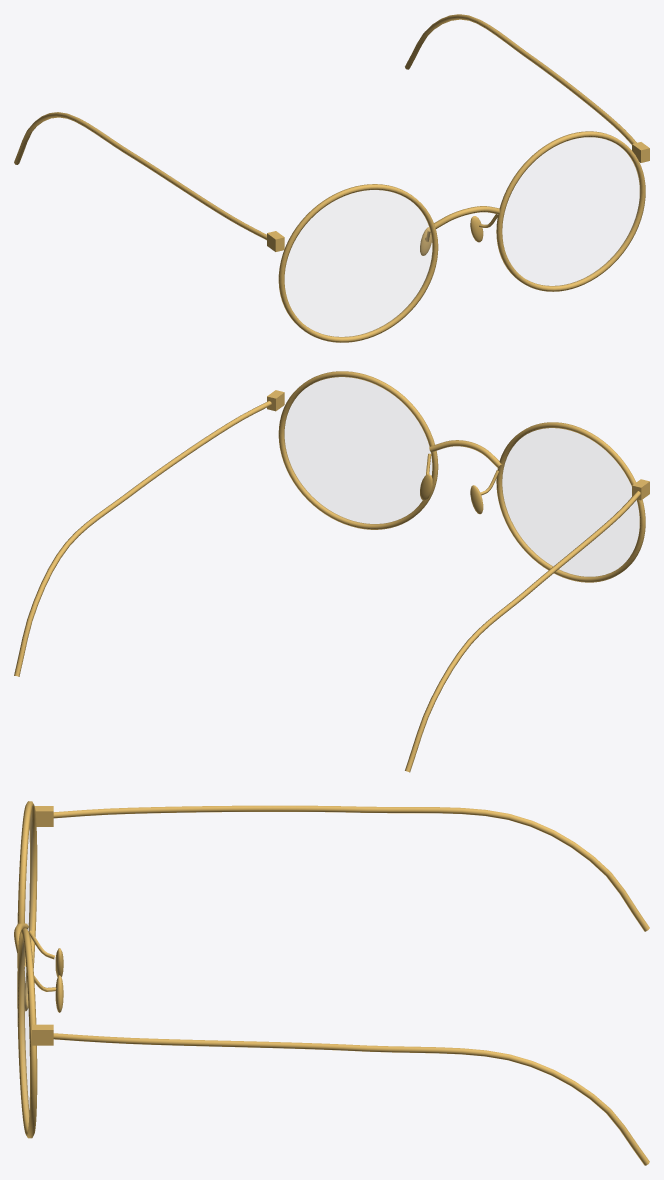
Rendered from BM-P01_Aurum_18K_gold.glb.
3 renders of one model, top to bottom at view 1: azimuth 30°, elevation 25°; view 2: azimuth 150°, elevation 25°; view 3: azimuth 270°, elevation 25°, orthographic. The views are drawn at different scales.
Visible parts, largest first — view 1: Aurum_18K_gold_Lenses, Aurum_18K_gold_Metal; view 2: Aurum_18K_gold_Lenses, Aurum_18K_gold_Metal; view 3: Aurum_18K_gold_Metal, Aurum_18K_gold_Lenses.
Boxes of the visible parts, x1,y1,x2,y2 form: Aurum_18K_gold_Lenses: [285, 138, 639, 336]; Aurum_18K_gold_Metal: [14, 14, 649, 342]; Aurum_18K_gold_Lenses: [284, 377, 638, 576]; Aurum_18K_gold_Metal: [14, 371, 649, 772]; Aurum_18K_gold_Metal: [14, 801, 649, 1165]; Aurum_18K_gold_Lenses: [22, 815, 32, 1121].
Bounding box in the file's own units: 0.131 × 0.0475 × 0.1448.
